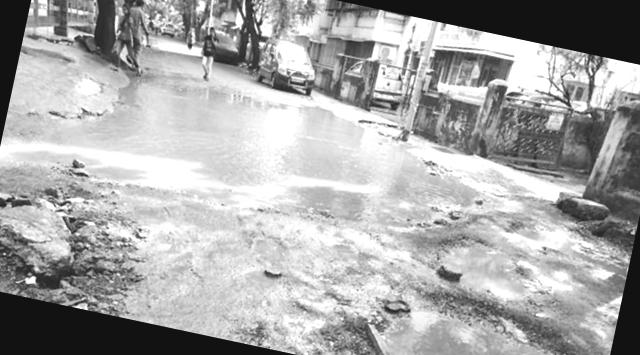Pothole: (12, 31, 480, 282), (336, 264, 614, 355), (486, 196, 636, 292), (414, 225, 540, 312), (222, 226, 316, 301)
